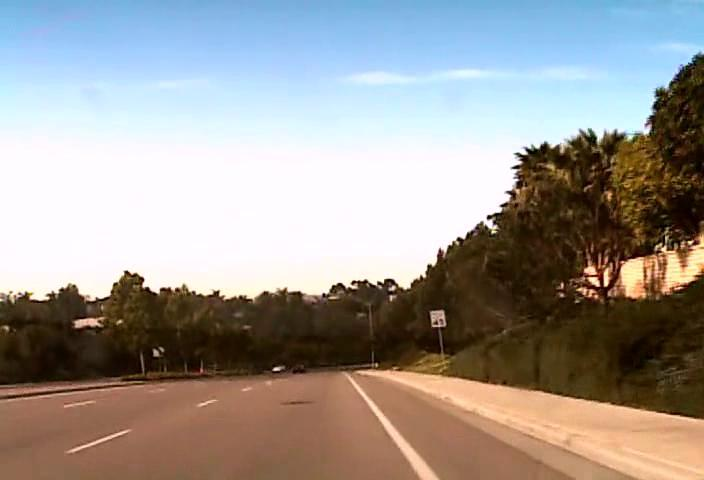speedLimit45: (429, 309, 446, 327)
